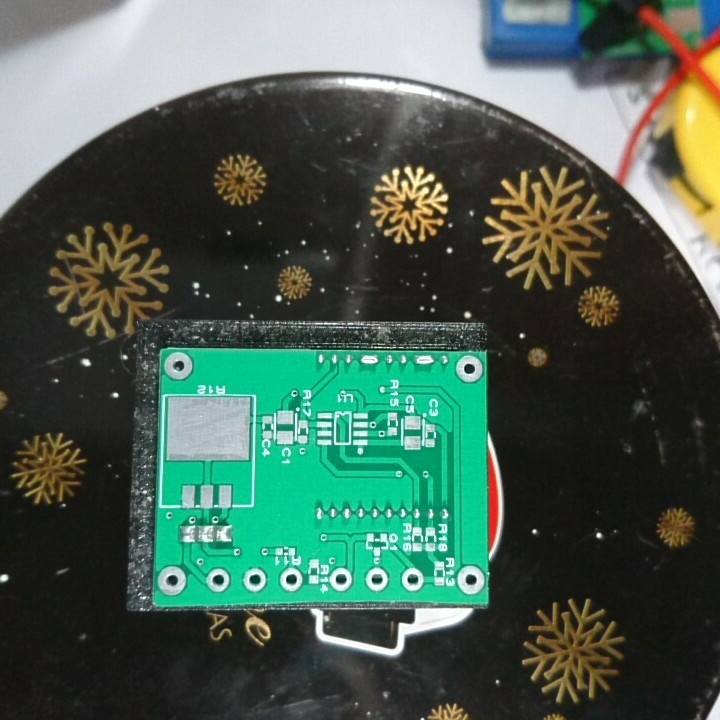F: (456, 560, 487, 598), (156, 563, 188, 598), (162, 349, 194, 382), (452, 354, 485, 384), (239, 565, 270, 595), (205, 566, 233, 595), (277, 565, 305, 593), (326, 567, 354, 593), (399, 566, 425, 593), (363, 565, 389, 592)
P: (411, 351, 437, 370), (358, 352, 379, 370)
